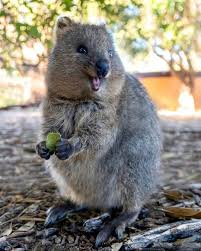quokka: (22, 13, 167, 235)
